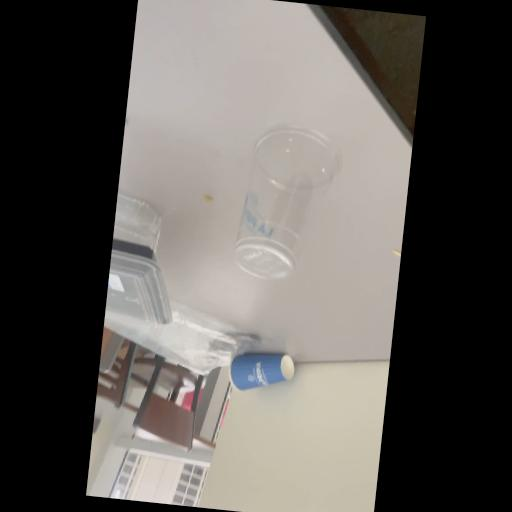lp_paper_cup: (225, 342, 297, 398)
lp_plastic_cup: (232, 115, 340, 287)
